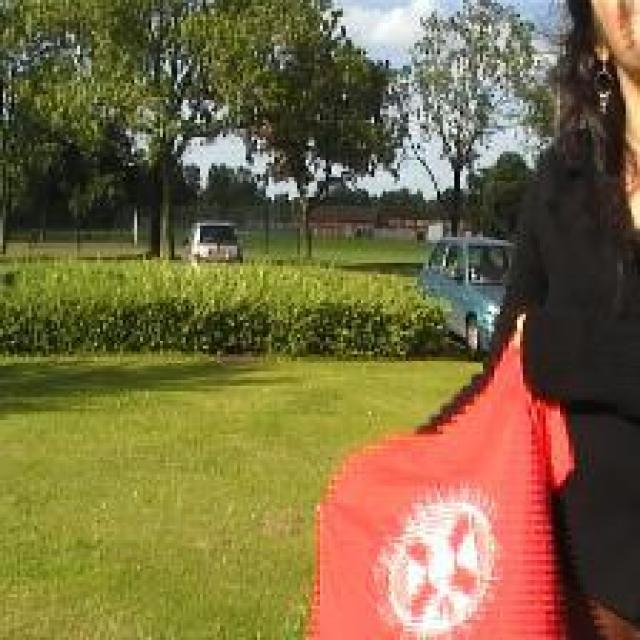other: (288, 371, 571, 633)
